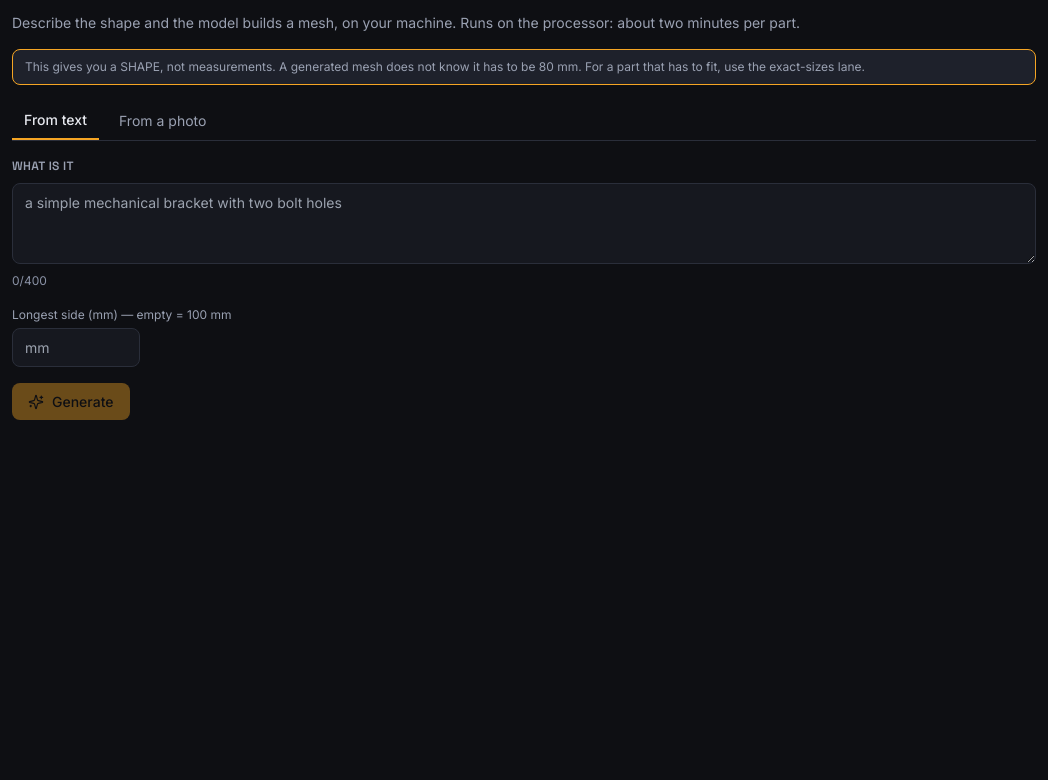
Test case: MeshGenerator › offers to repair a generated mesh that does not print
This screenshot has width=1048, height=780.
Type "algo" into the text box at point(524, 224), box [12,183,1036,264]
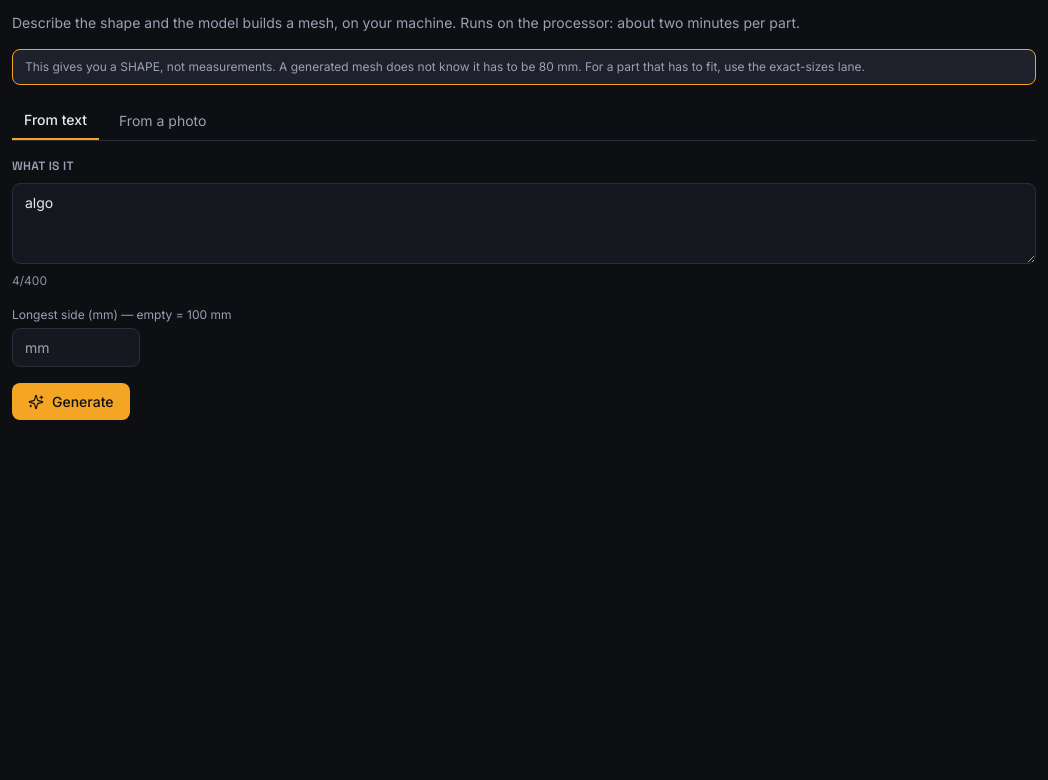
Click the button "Generate" at point(71, 402), box [12,383,130,420]
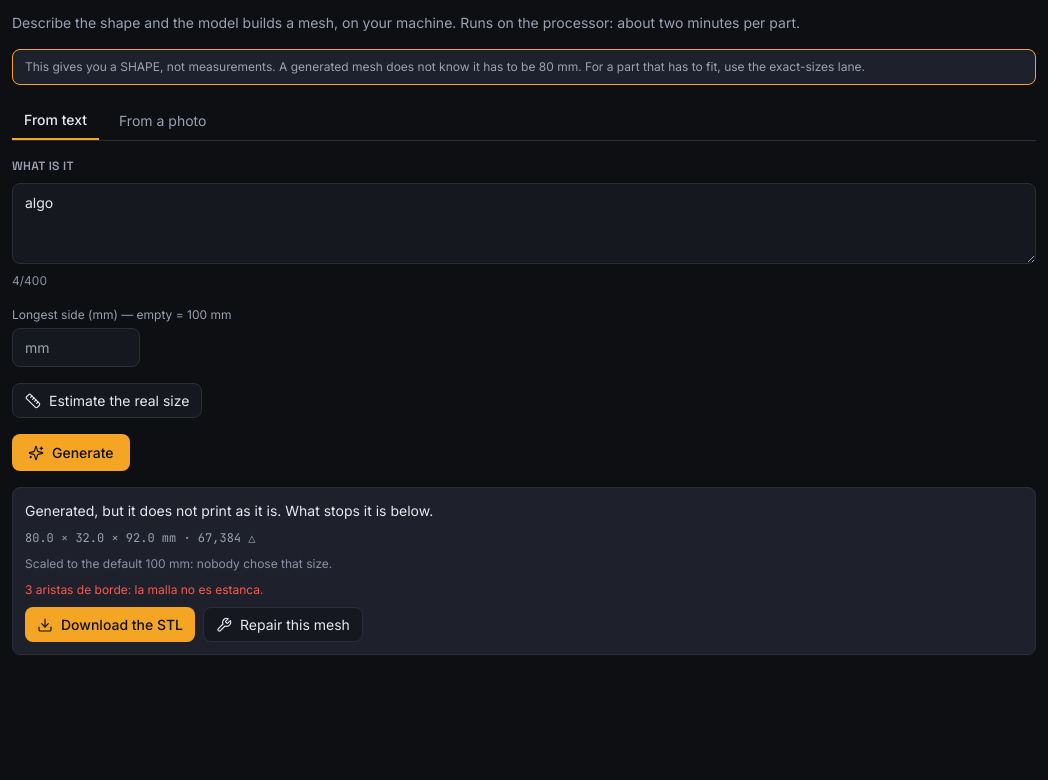
Result: the button "Repair this mesh" is shown at [203,607,363,642]
